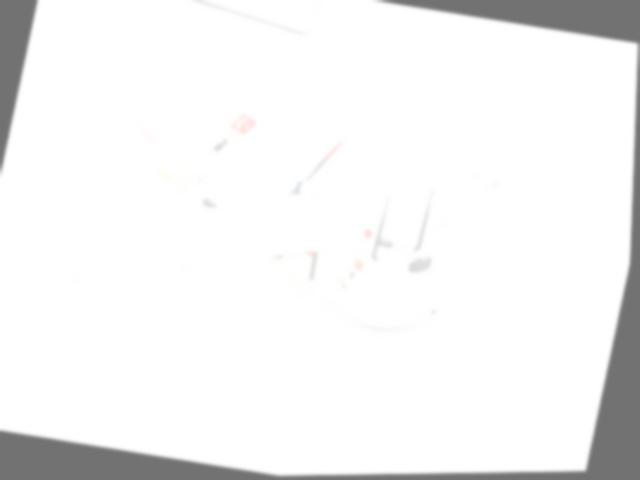iha: (0, 26, 607, 367)
